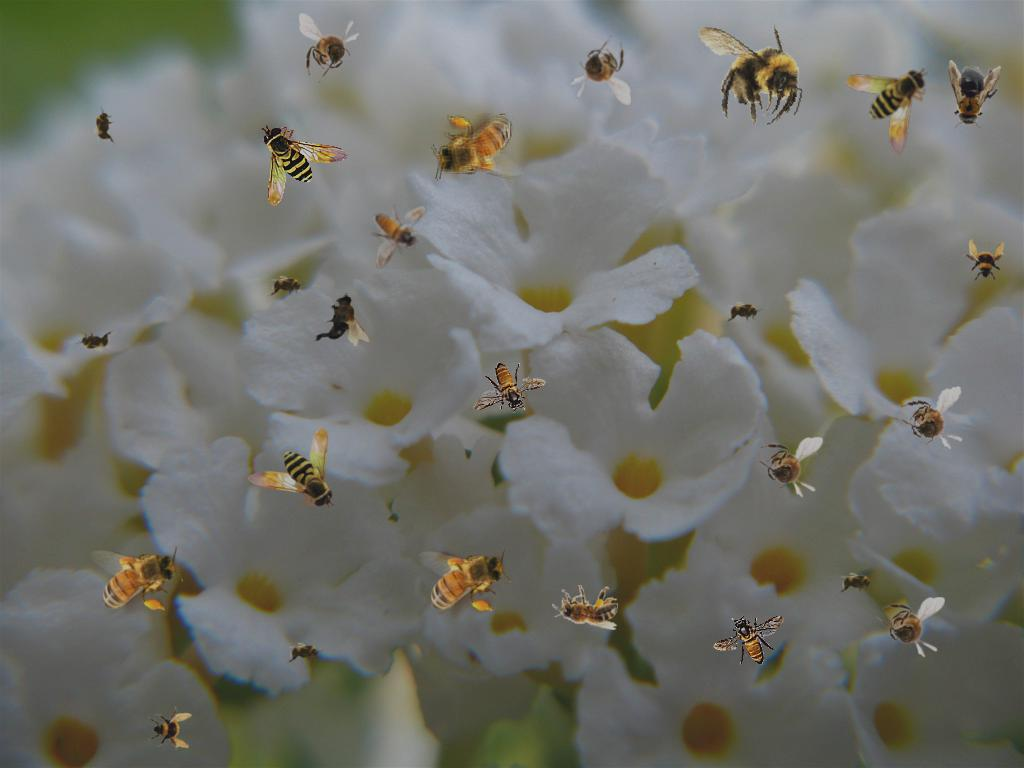Bee: (681, 6, 816, 135), (846, 68, 928, 156), (261, 124, 349, 206), (247, 428, 335, 510), (354, 191, 442, 270), (418, 547, 511, 615), (90, 546, 183, 614), (431, 113, 524, 181), (891, 385, 972, 459), (943, 59, 1001, 133), (570, 35, 631, 105), (875, 597, 945, 658), (753, 437, 823, 498), (299, 13, 360, 83), (473, 360, 547, 415), (713, 615, 784, 665), (309, 293, 371, 346), (552, 585, 618, 630), (962, 239, 1006, 283), (148, 706, 192, 750), (837, 572, 877, 594), (75, 330, 115, 352), (93, 106, 115, 146), (724, 301, 764, 323), (285, 642, 325, 664), (267, 275, 307, 297)
